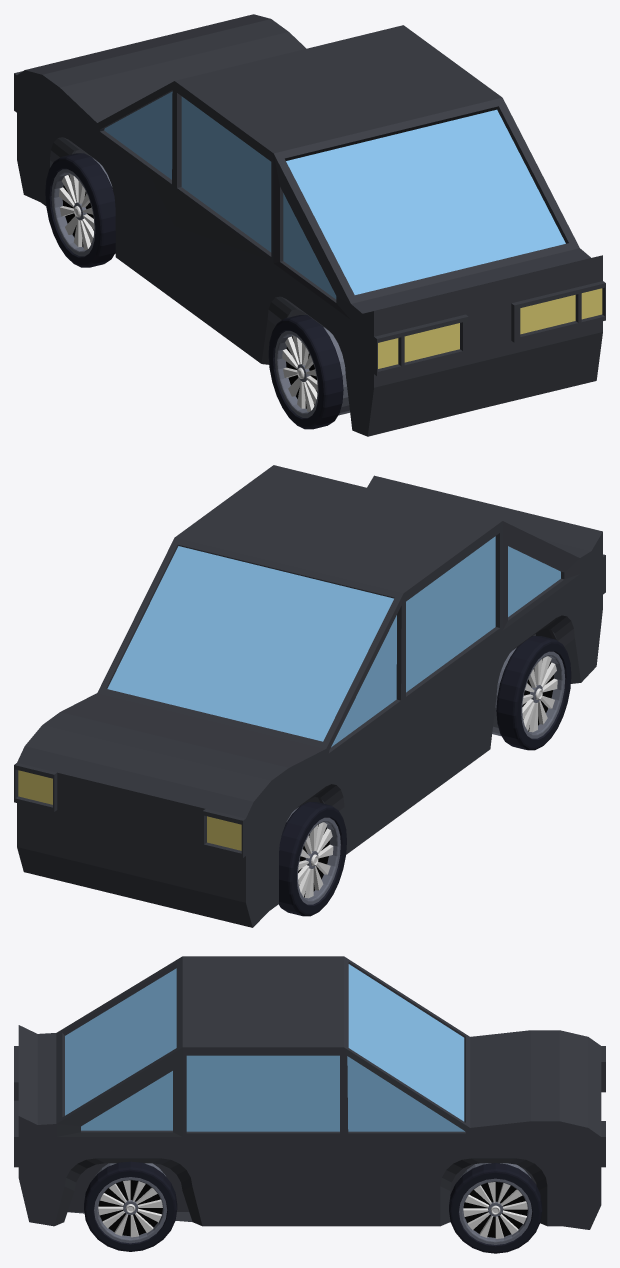
Rendered from Auto.fbx.
3 views of the same model, one above another, from view 1: azimuth 30°, elevation 25°; view 2: azimuth 150°, elevation 25°; view 3: azimuth 270°, elevation 25° (orthographic). The views are drawn at different scales.
Parts seen in each view (by area): view 1: Auto1; view 2: Auto1; view 3: Auto1.
Part boxes in pixels (x1,y1,x2,y2): Auto1: (14,14,605,436); Auto1: (14,465,605,927); Auto1: (14,956,605,1253).
Size of the model in its own units: 0.9168 by 0.8812 by 2.32.
